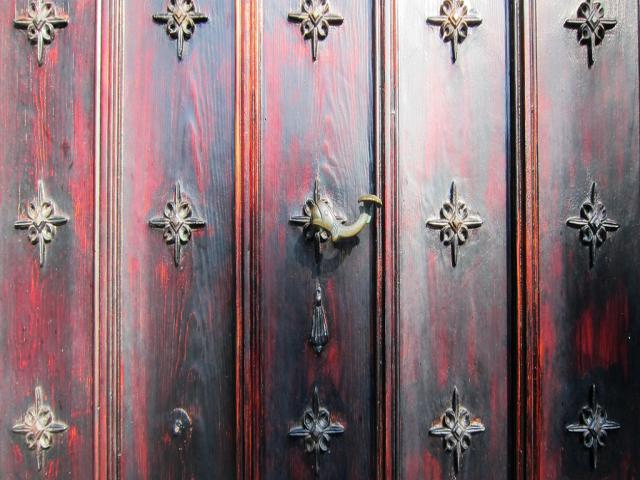Door-handle: (310, 191, 384, 258)
